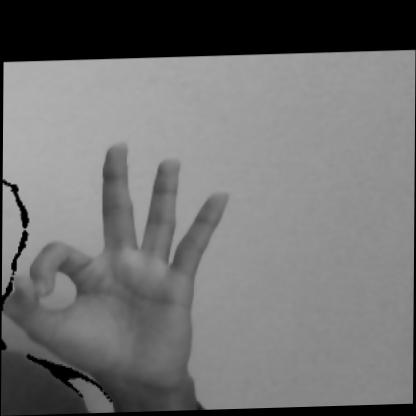ok: (0, 139, 232, 412)
